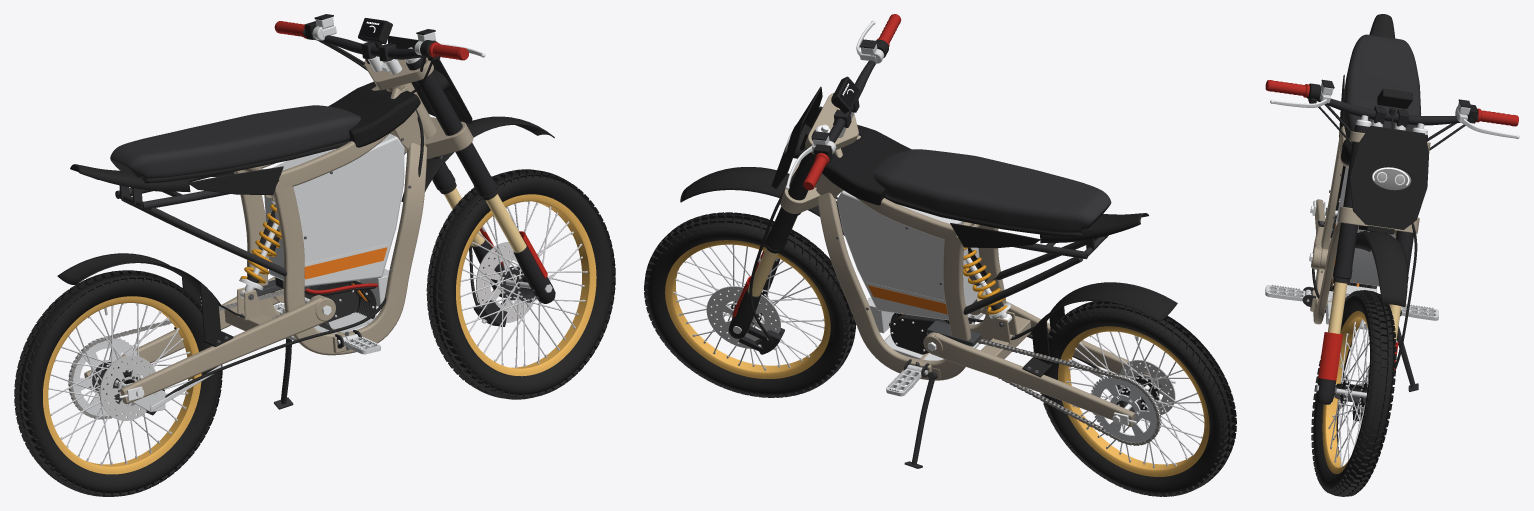
File: surron-light-bee-x-supermoto.glb
3 renders of one model, left to right at view 1: azimuth 30°, elevation 25°; view 2: azimuth 150°, elevation 25°; view 3: azimuth 270°, elevation 25°, orthographic. The views are drawn at different scales.
Visible parts, largest first — view 1: Tire_R, Tire_F, Frame_Main, Battery_Pack, Seat, Swingarm_Arms, Rim_F, Rim_R, Spokes_F, Spokes_R, TankCover, Fork_Upper_R (+23 smaller); view 2: Seat, Tire_F, Tire_R, Frame_Main, Battery_Pack, Swingarm_Arms, Rim_F, Rim_R, TankCover, Spokes_R, Swingarm_Hugger, Spokes_F (+19 smaller); view 3: Tire_F, HeadlightShroud, Seat, FrontFender, Frame_Main, Spokes_F, Rim_F, Fork_Upper_R, Battery_Pack, Handlebar, Fork_Guards, Footpegs (+17 smaller).
Boxes of the visible parts, x1,y1,x2,y2 form: Tire_R: (14,270,222,496); Tire_F: (426,169,615,399); Frame_Main: (234,85,427,355); Battery_Pack: (264,134,404,286); Seat: (110,105,360,178); Swingarm_Arms: (84,277,335,403); Rim_F: (456,194,596,376); Rim_R: (43,296,201,474); Spokes_F: (460,202,586,367); Spokes_R: (48,303,190,464); TankCover: (328,81,420,147); Fork_Upper_R: (406,57,496,196); Seat: (873,149,1111,232); Tire_F: (644,212,856,397); Tire_R: (1040,301,1236,496); Frame_Main: (816,135,1006,380); Battery_Pack: (837,190,983,320); Swingarm_Arms: (923,291,1166,426); Rim_F: (665,240,830,378); Rim_R: (1058,326,1209,476); TankCover: (822,124,911,205); Spokes_R: (1067,331,1204,467); Swingarm_Hugger: (1030,282,1177,335); Spokes_F: (674,244,823,369); Tire_F: (1311,290,1396,496); HeadlightShroud: (1349,125,1429,229); Seat: (1343,34,1421,138); FrontFender: (1355,230,1407,307); Frame_Main: (1310,126,1396,324); Spokes_F: (1328,320,1369,465); Rim_F: (1322,311,1368,473); Fork_Upper_R: (1333,125,1369,279); Battery_Pack: (1332,167,1395,286); Handlebar: (1307,96,1478,125); Fork_Guards: (1318,332,1398,380); Footpegs: (1265,285,1438,320).
Size of the model in its own units: 1.88 by 1.19 by 0.7598.
